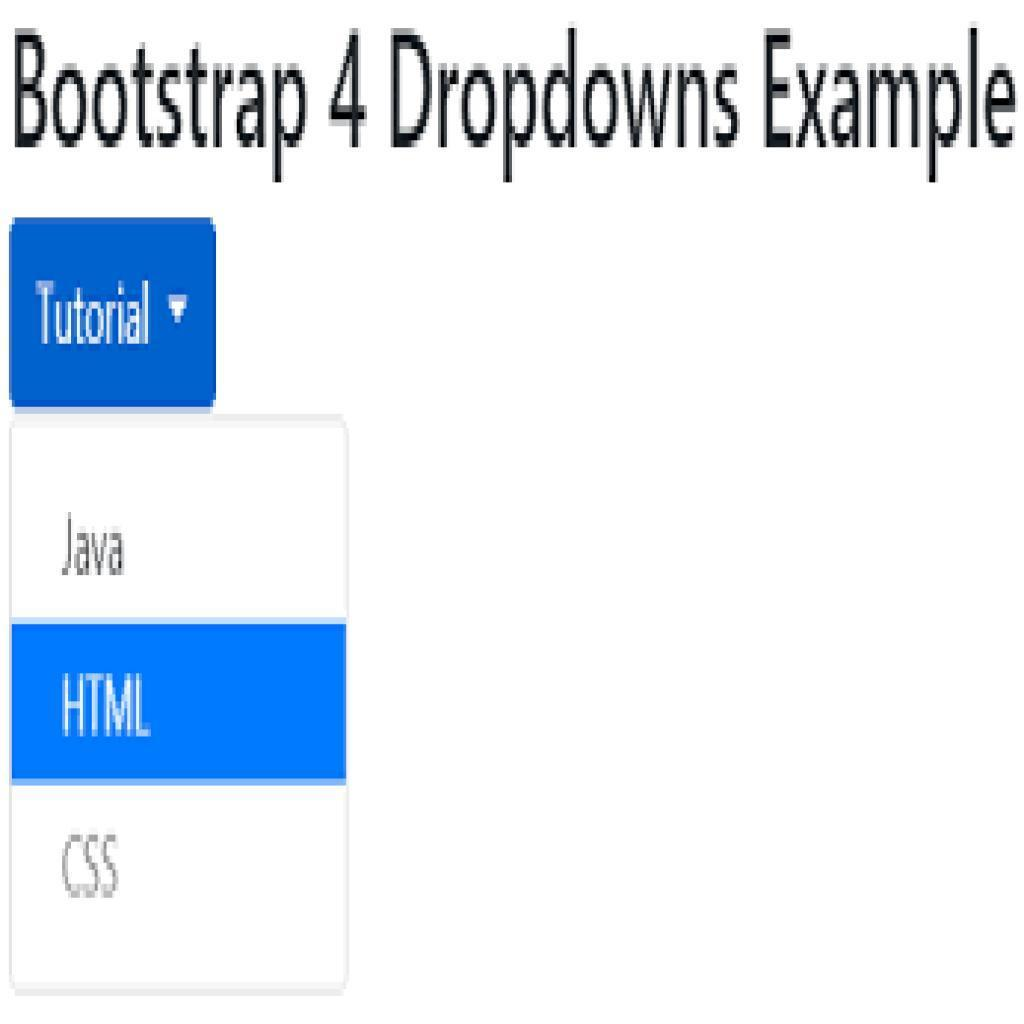button: (11, 622, 349, 787)
dropdown: (9, 216, 217, 407)
